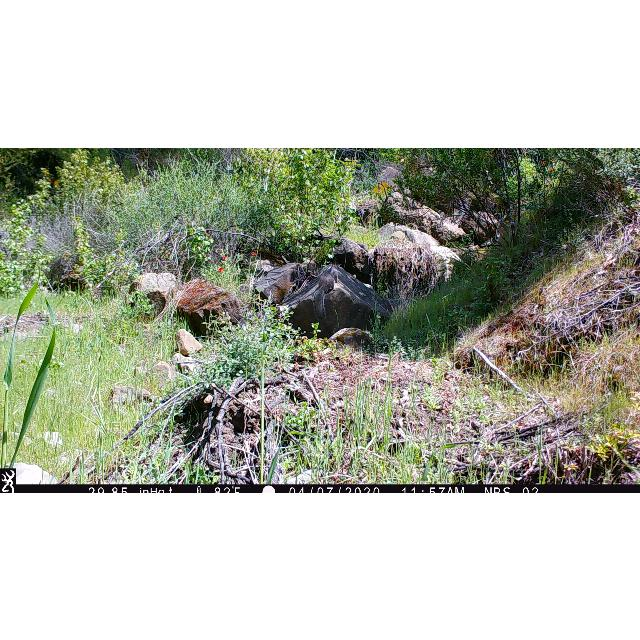animals: (312, 267, 340, 319)
